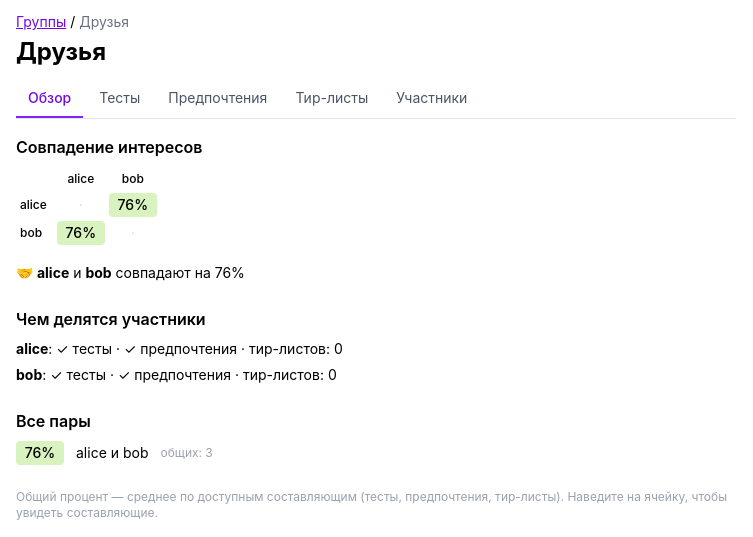
Test case: GroupPage (дымовая проверка) › вкладка «Предпочтения»: спорные и любимые элементы
Click the button "Предпочтения": [218, 99] box [156,80,279,118]
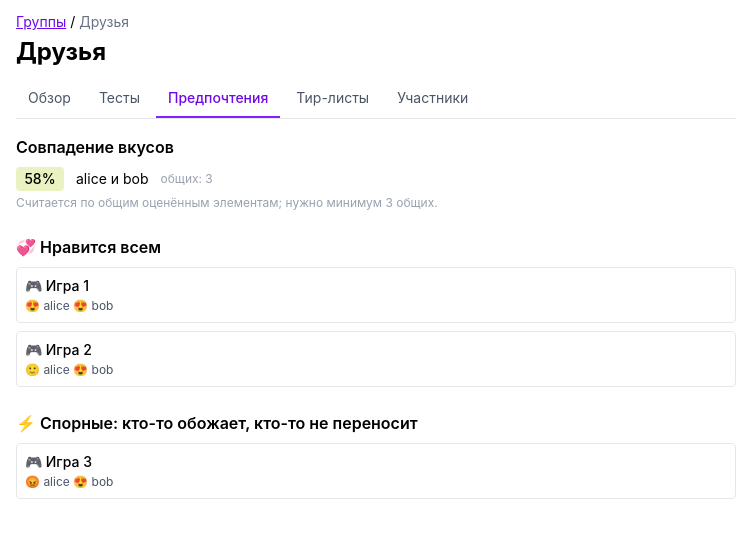
expect the heading "Совпадение вкусов" is shown: met, box [16,137,174,157]
expect the heading "💞 Нравится всем" is shown: met, box [16,237,161,257]
expect the heading "⚡ Спорные: кто-то обожает, кто-то не переносит" is shown: met, box [16,413,418,433]
